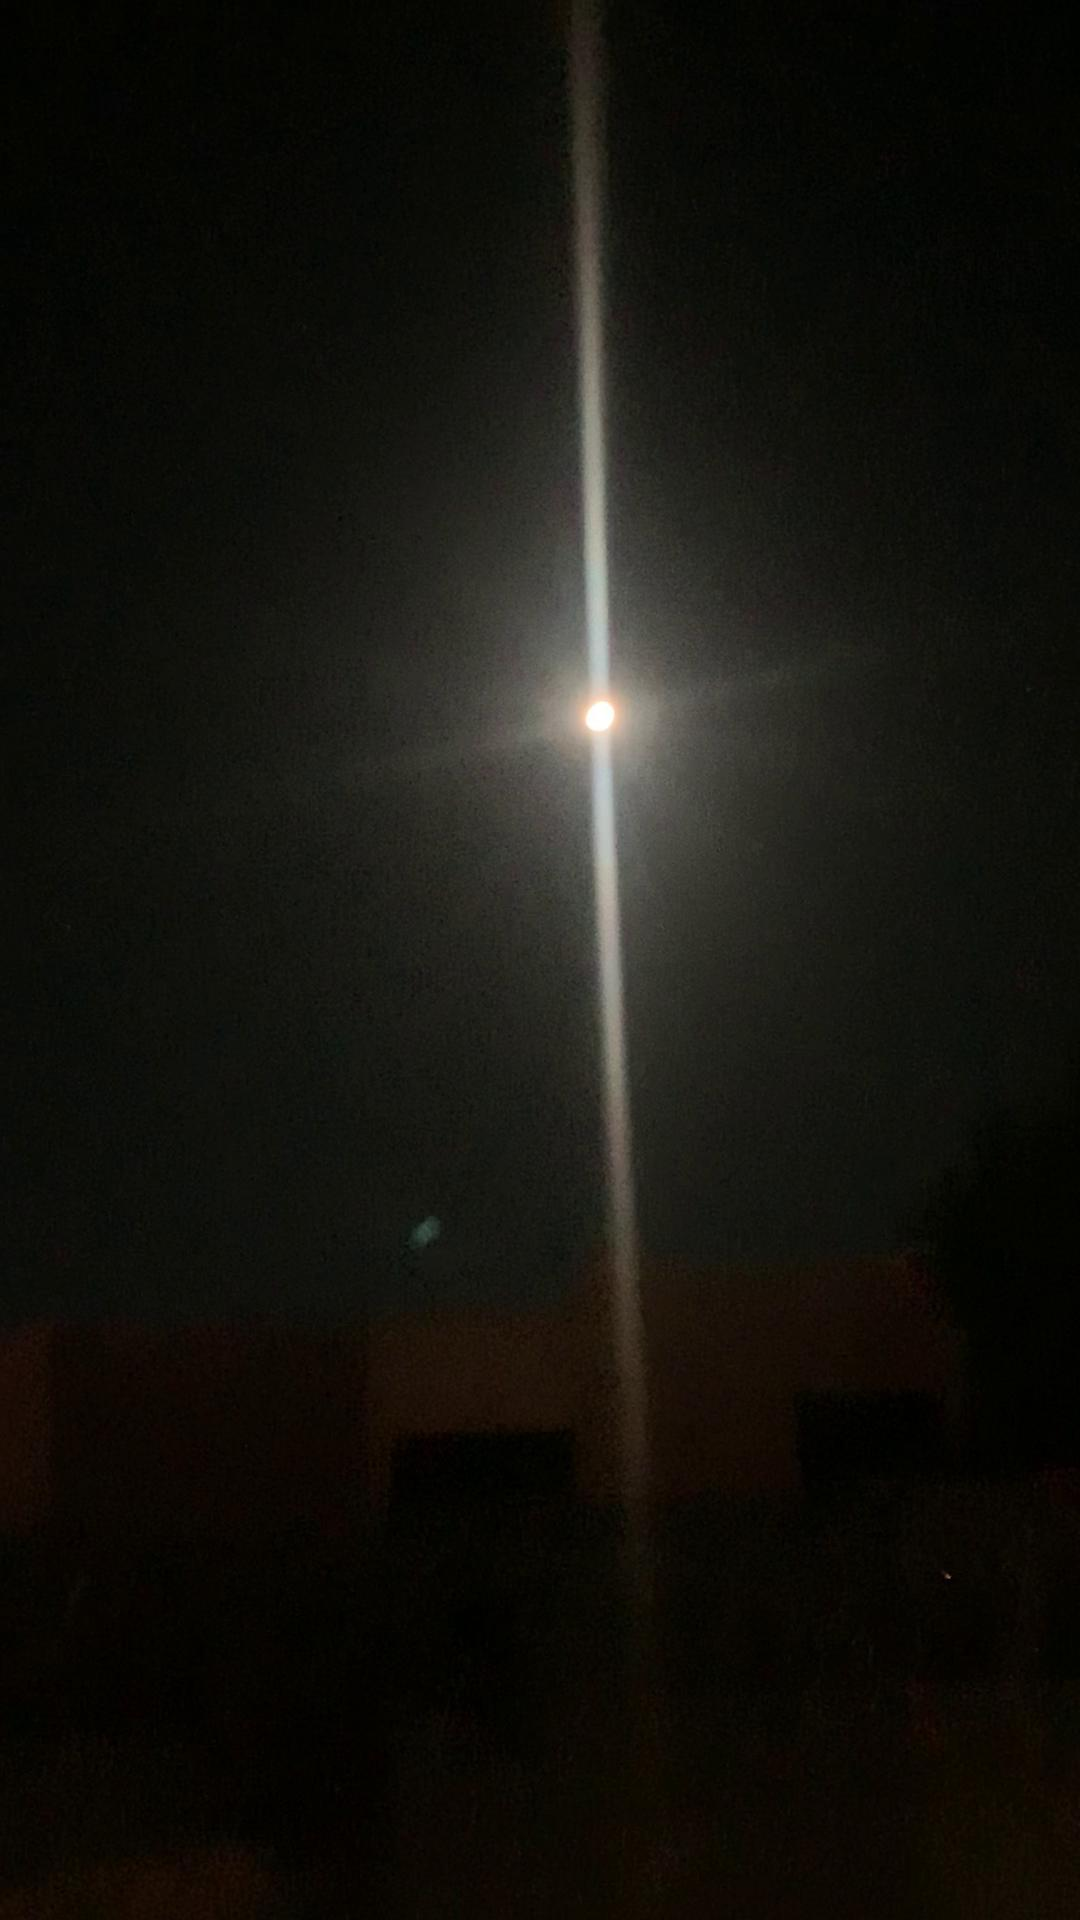moon: (546, 679, 651, 764)
